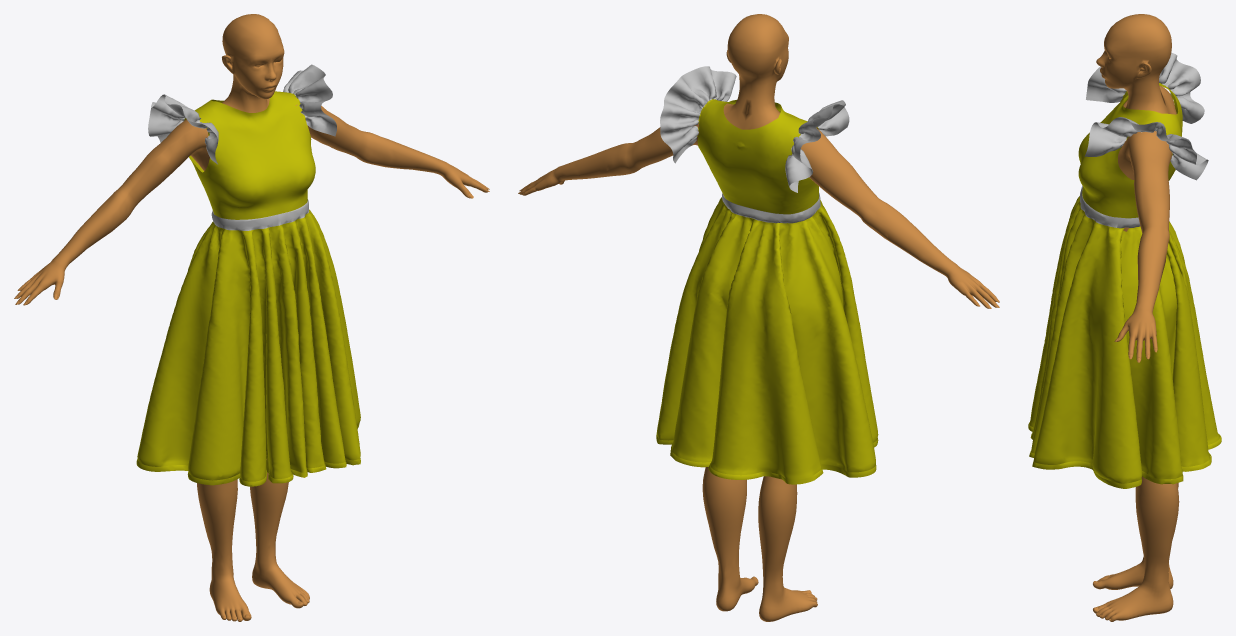
File: dress10.glb
The picture shows the model from 3 angles, left to right: view 1: azimuth 30°, elevation 25°; view 2: azimuth 150°, elevation 25°; view 3: azimuth 270°, elevation 25°; orthographic projection.
Parts seen in each view (by area): view 1: PinkDrees#14 (OBJ), Body; view 2: PinkDrees#14 (OBJ), Body; view 3: PinkDrees#14 (OBJ), Body.
Boxes of the visible parts, x1=… form: PinkDrees#14 (OBJ): x1=136, y1=64, x2=360, y2=486; Body: x1=16, y1=14, x2=489, y2=621; PinkDrees#14 (OBJ): x1=656, y1=66, x2=878, y2=484; Body: x1=519, y1=14, x2=996, y2=621; PinkDrees#14 (OBJ): x1=1028, y1=52, x2=1221, y2=488; Body: x1=1093, y1=14, x2=1179, y2=621.
Bounding box in the file's own units: 1.58 × 1.85 × 0.5546.
